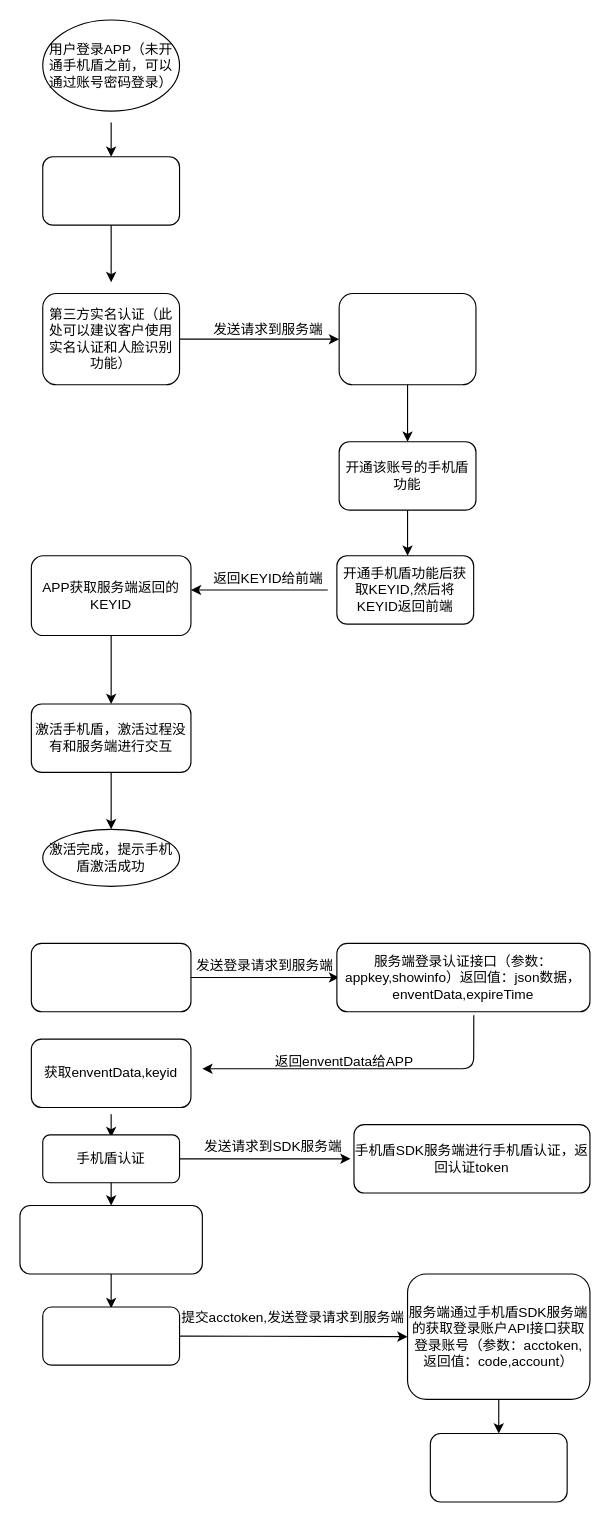
This 610x1522 diagram has some shape labels left out. Each missing label, with the centre of its shape:
APP接口回调获取acctoken: point (110, 1239)
业务系统验证账户，完成登录: point (498, 1467)
开通手机盾后APP再次登录: point (110, 977)
服务端第三方实名认证接口（需要用户名，手机号，身份类型，姓名，身份证号等参数）: point (407, 338)
申请开通手机盾 （APP上，增加开通手机盾功能）: point (111, 190)
登录认证: point (111, 1335)
